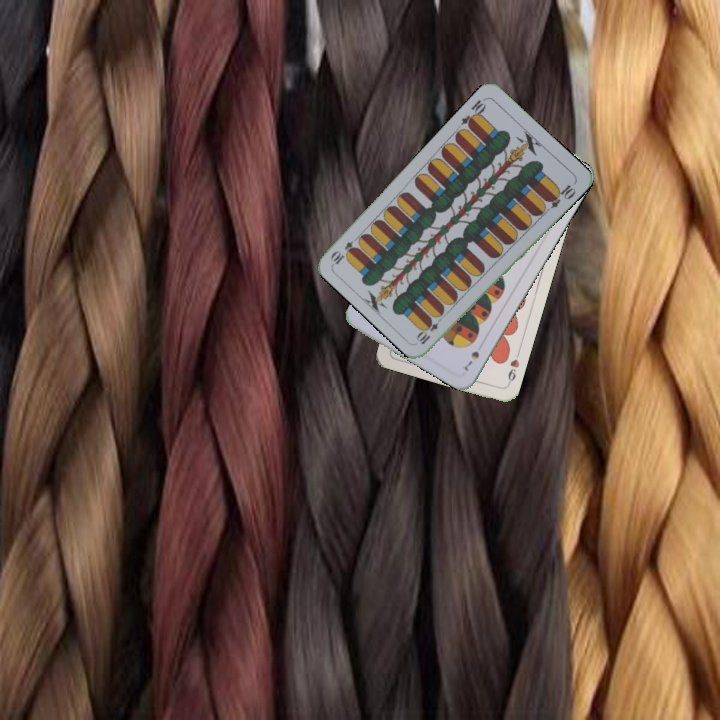E10: (457, 94, 489, 131), (413, 312, 446, 347)
H9: (503, 348, 522, 388)
S7: (460, 347, 482, 374)
